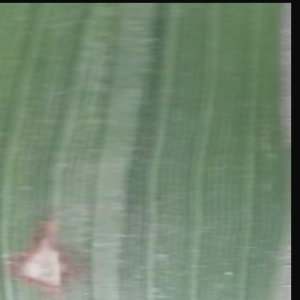Brown_Spot: (7, 201, 85, 294)
